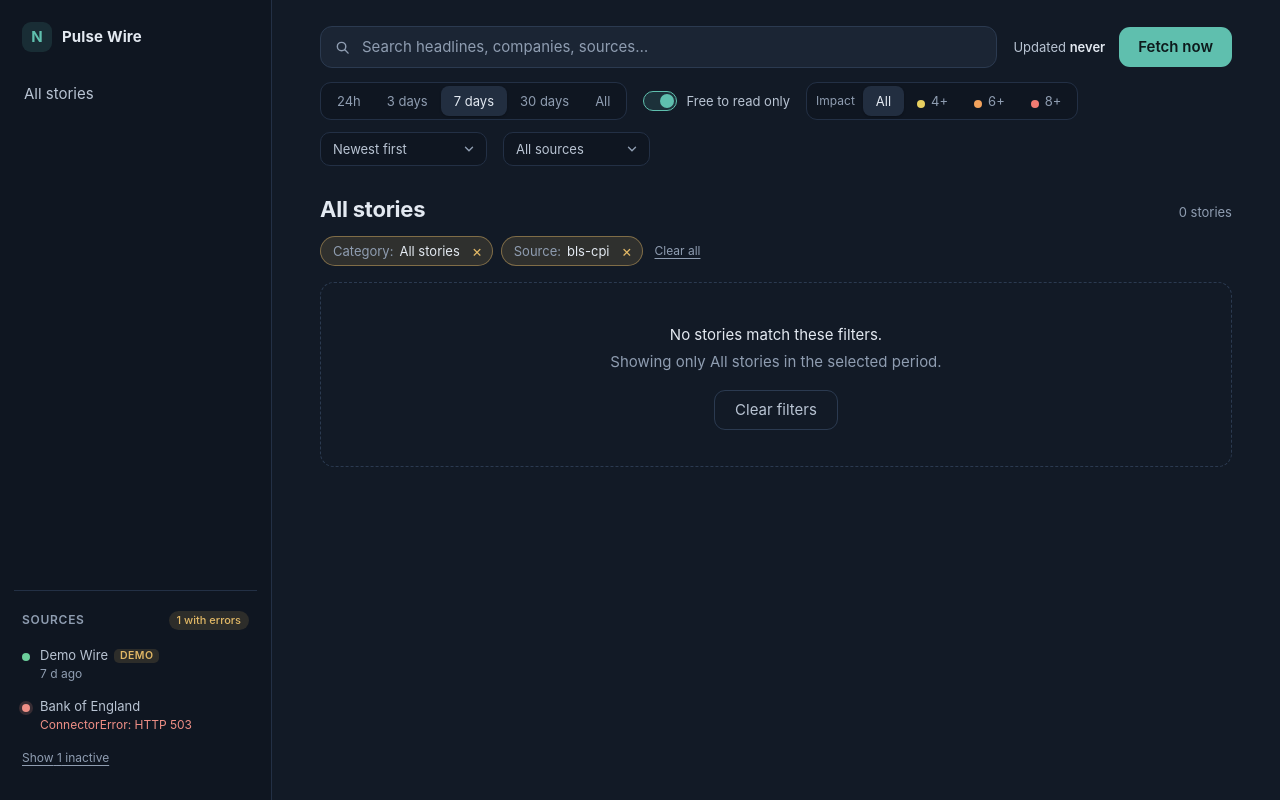
filters never hide stories invisibly (regression) › empty results offer a one-click way out
Expected: the text "No stories match these filters." is shown, [670,325,882,344]
What coordinates should you click on to do the following:
click the button "Clear filters"
I would click on:
 (776, 410)
Its box is [714,390,838,430].
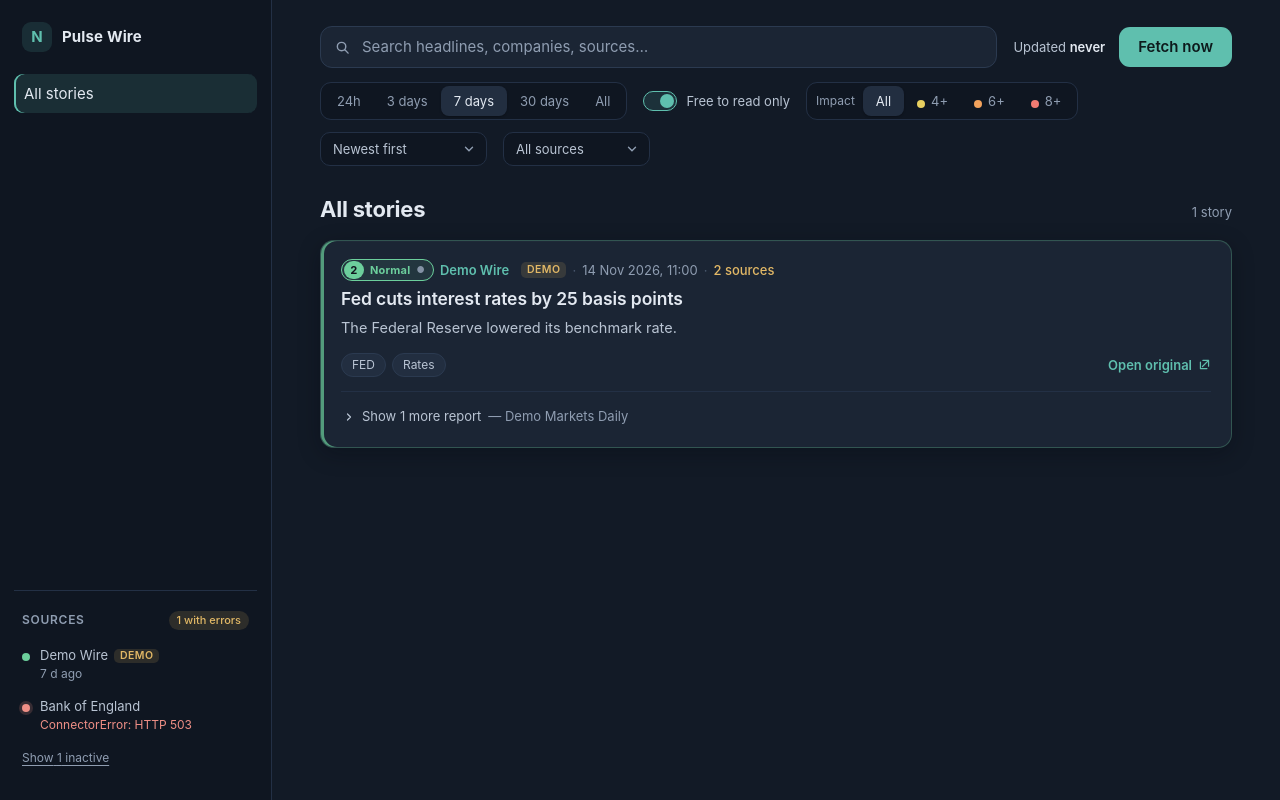
Now the heading "Fed cuts interest rates by 25 basis points" is shown, box [341,288,683,309]
